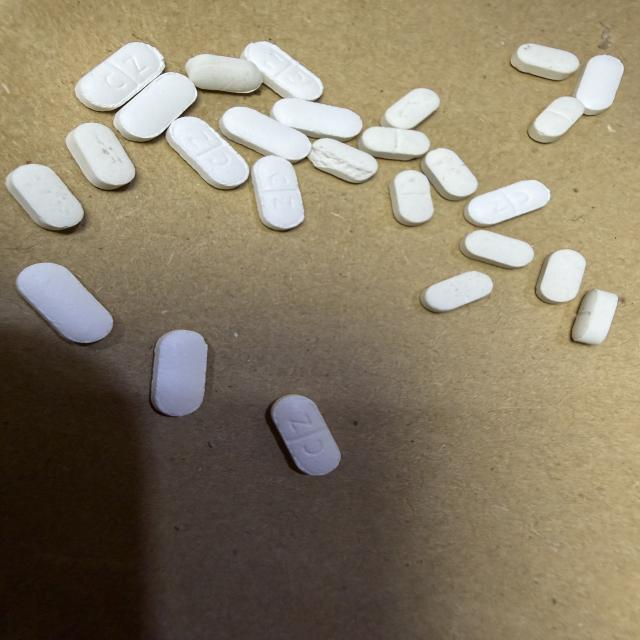pill: (16, 263, 113, 343), (76, 42, 164, 111), (166, 117, 249, 189), (114, 73, 197, 141), (271, 395, 340, 475), (6, 164, 83, 230), (220, 107, 311, 162), (151, 330, 207, 416), (241, 42, 323, 100), (66, 123, 135, 189), (464, 180, 550, 226), (252, 156, 304, 230), (271, 99, 362, 141), (185, 54, 263, 93), (309, 139, 377, 183), (420, 271, 492, 312), (574, 55, 623, 115), (421, 148, 477, 200), (460, 230, 534, 268), (536, 250, 586, 303), (528, 97, 584, 143), (572, 290, 618, 344), (389, 170, 433, 226), (511, 44, 579, 80), (381, 88, 439, 129), (358, 127, 429, 160)
